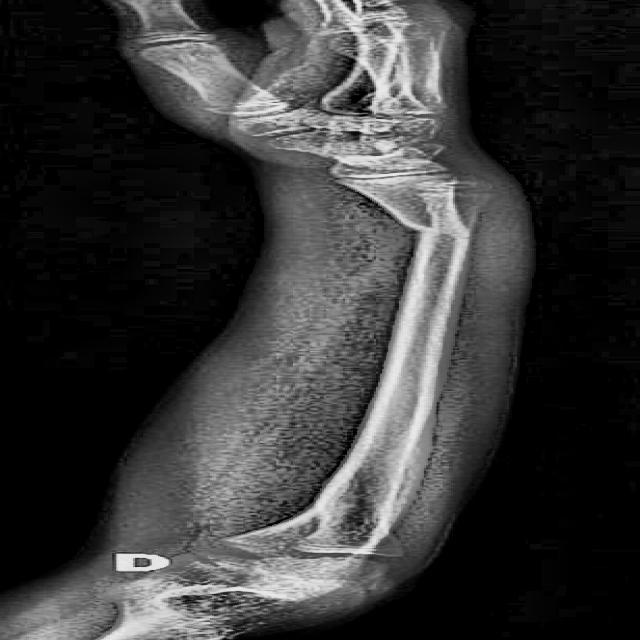fracture: (394, 220, 468, 240)
